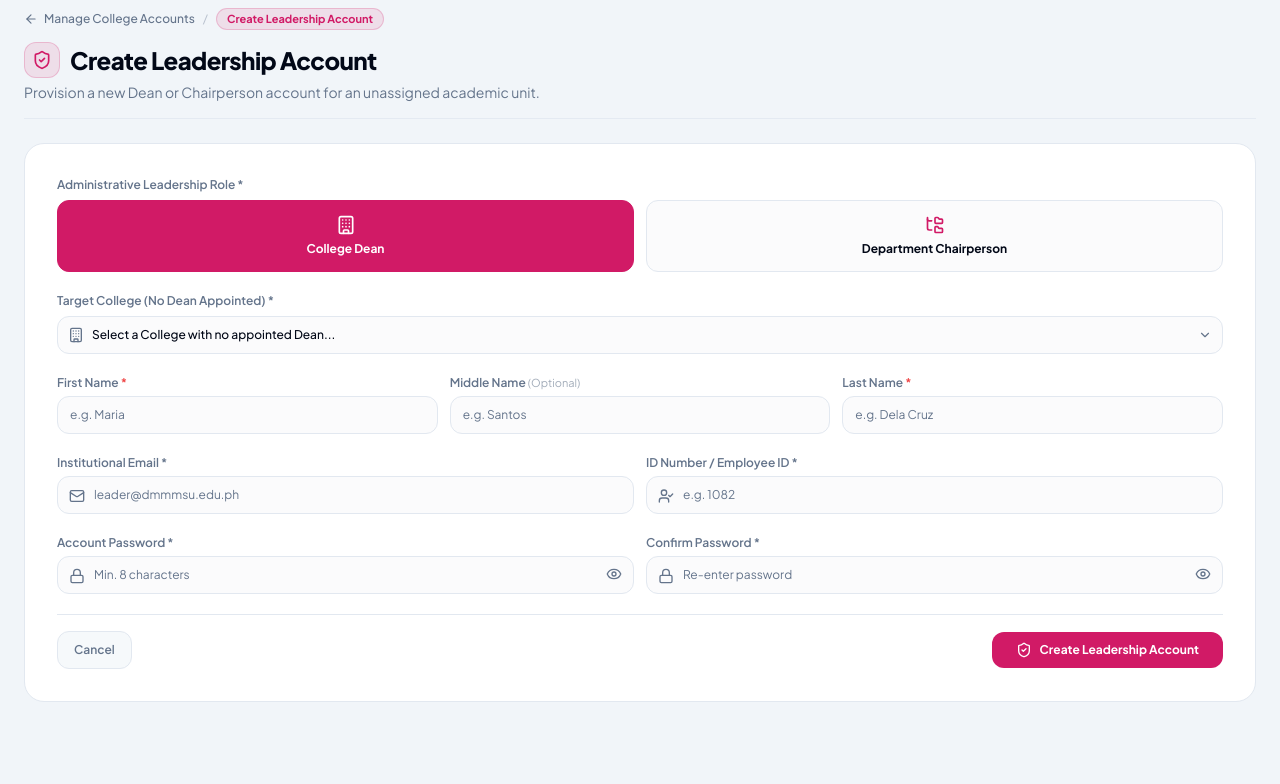
Test: CreateLeadershipAccountPage › limits the employee ID to four digits
The width and height of the screenshot is (1280, 784).
Step 1. Type "12" into the field labelled "ID Number / Employee ID *" → x=934, y=495, box x1=646 y1=476 x2=1223 y2=514
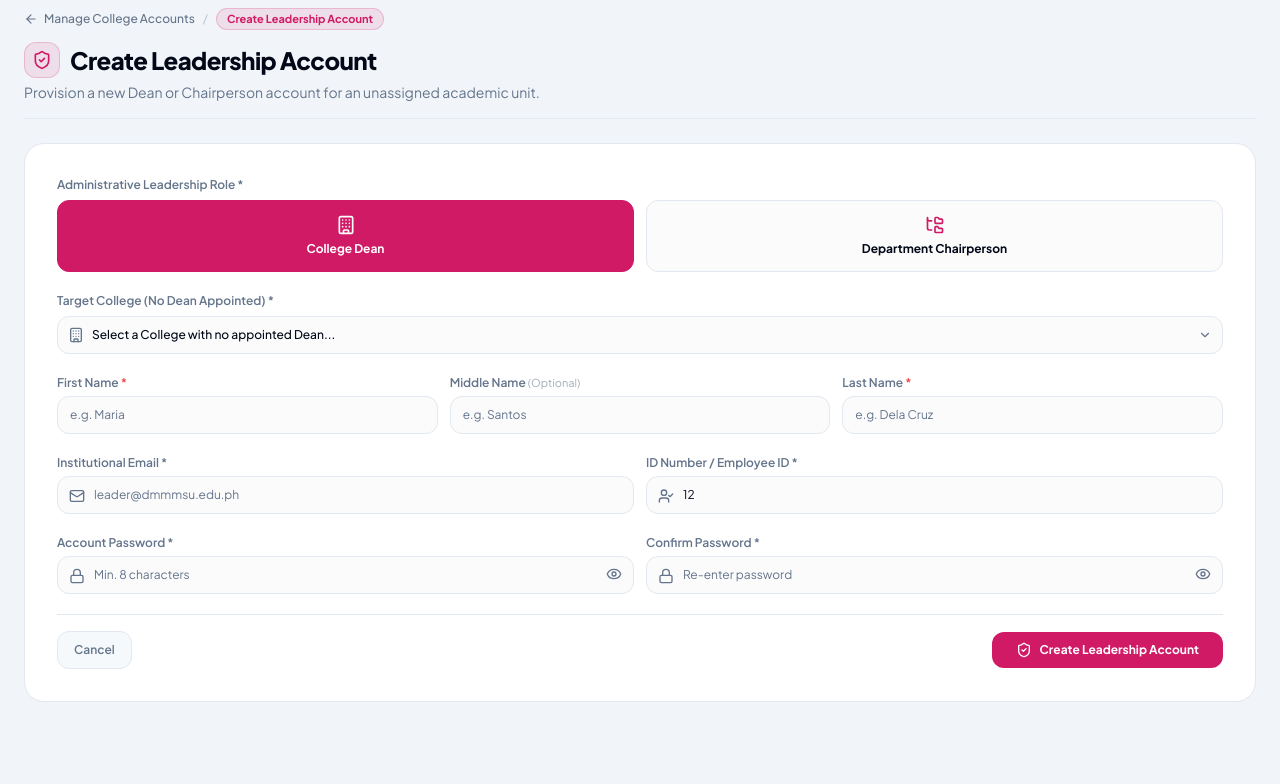
Step 2. Click the button "Create Leadership Account" → x=1107, y=650, box x1=992 y1=632 x2=1223 y2=668
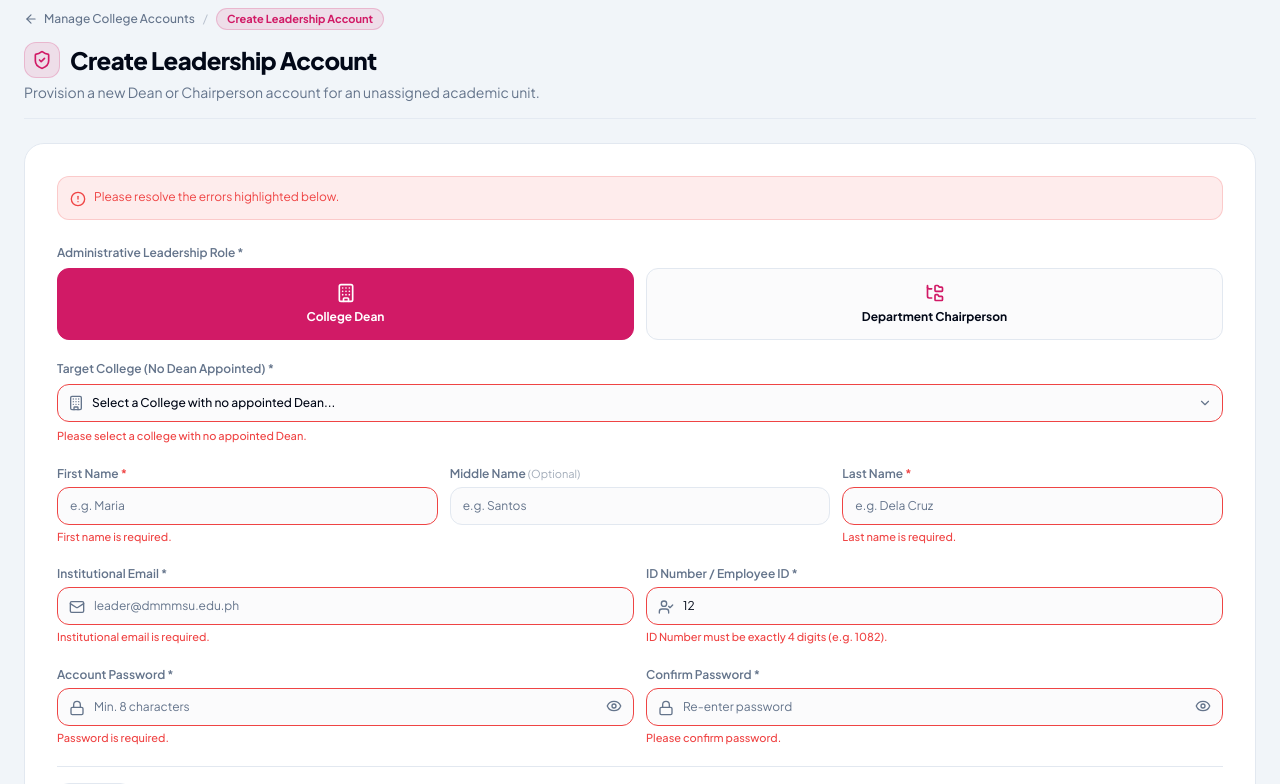
Expected: the text "ID Number must be exactly 4 digits (e.g. 1082)." is shown, x1=646 y1=630 x2=888 y2=643
